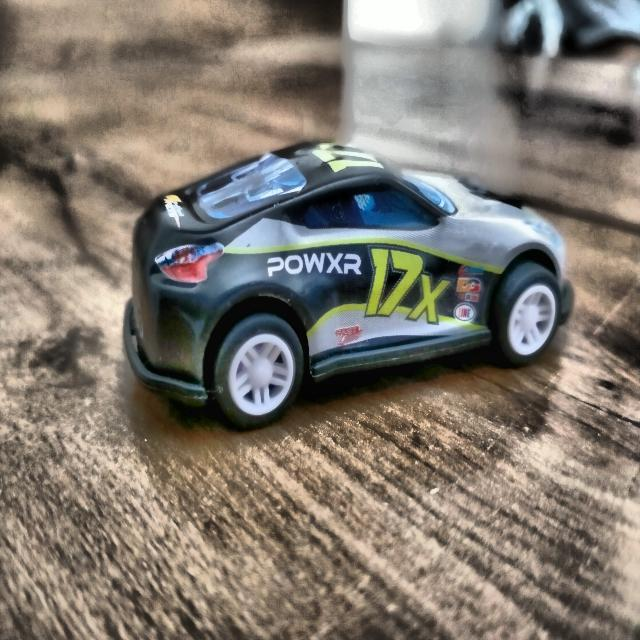Car: (131, 140, 574, 419)
